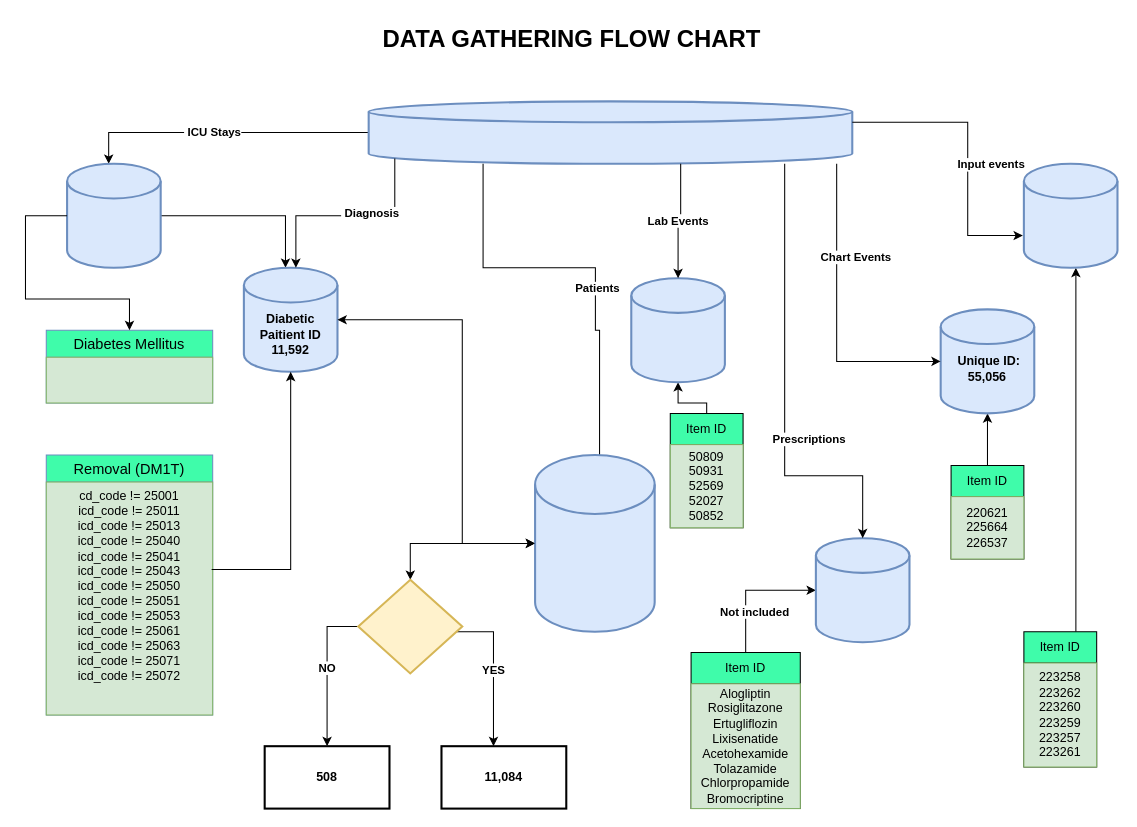
The diagram is 1137 pixels wide and 827 high, and some of its shapes have lost their labels. Here are the shapes that lost their labels. From the top down, the centre of each, then its label:
At point 610,132: "MIMIC IV".
At point 113,215: "Unique ID Obs = 50920".
At point 1070,215: "Unique ID: 24,270".
At point 677,330: "Unique ID: 238,978".
At point 129,379: "icd_code >= 250 icd_code <= 259".
At point 594,542: "Obs = 11,592 Min: 18 Mean = 66.57 Max = 91".
At point 862,590: "Unique ID: 55,282".
At point 410,626: "Older Than 40".
